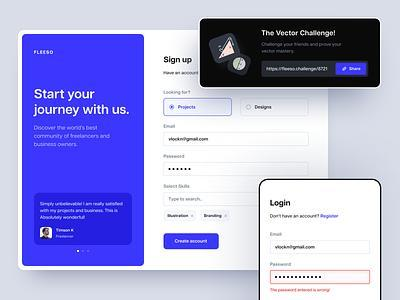button: (164, 99, 234, 118), (241, 98, 310, 117), (336, 64, 368, 76)
input: (164, 133, 311, 148), (163, 163, 311, 177), (163, 193, 259, 208), (271, 241, 371, 255), (271, 271, 371, 285), (263, 61, 336, 77), (164, 234, 220, 250)
label: (270, 199, 297, 209), (163, 182, 192, 191), (161, 90, 193, 96), (163, 155, 186, 161), (269, 231, 286, 239), (271, 263, 294, 268), (163, 124, 177, 130)
